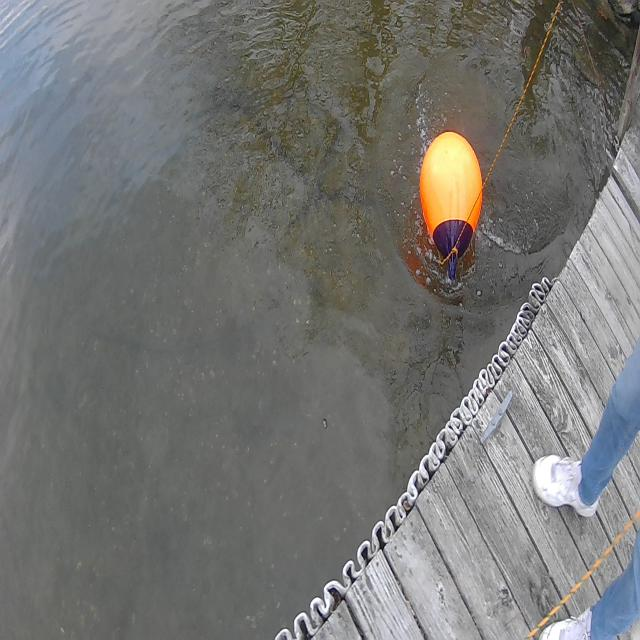Buoy: (416, 121, 485, 284)
